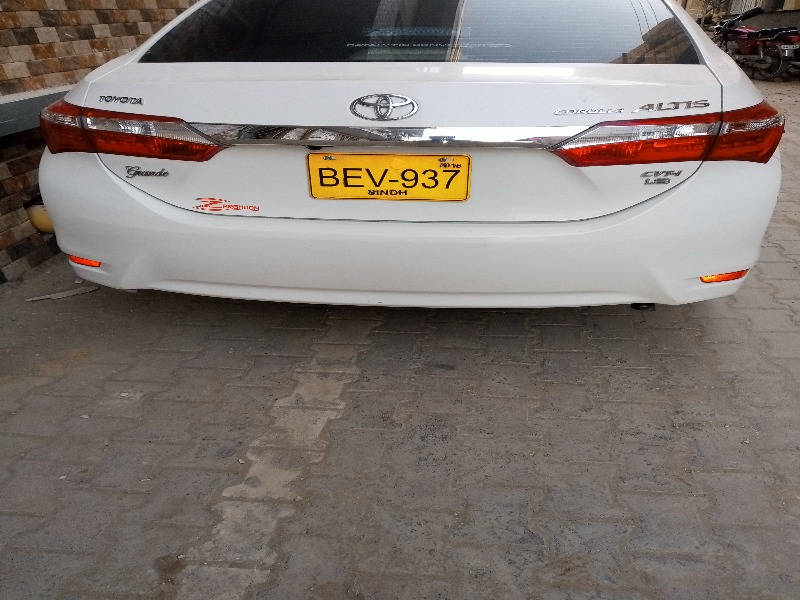License Plate: (302, 147, 473, 207)
